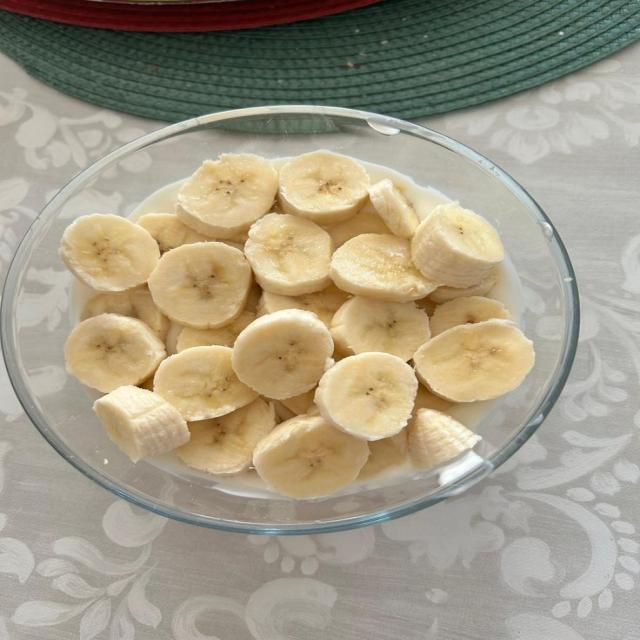banana slice: (414, 320, 534, 402), (254, 415, 368, 498), (315, 353, 418, 440), (233, 310, 333, 399), (148, 243, 251, 328), (176, 154, 278, 238), (65, 314, 166, 392), (412, 203, 504, 287), (154, 346, 258, 420), (60, 214, 159, 291), (176, 398, 275, 474), (245, 214, 333, 295), (94, 386, 189, 461), (330, 235, 436, 302), (280, 151, 370, 224), (331, 297, 430, 361), (81, 286, 169, 341), (408, 409, 480, 469), (258, 285, 348, 326), (430, 297, 511, 336), (177, 312, 255, 352), (369, 179, 419, 239), (138, 214, 213, 253), (428, 266, 500, 304), (359, 430, 409, 479), (325, 211, 391, 247), (413, 385, 452, 418), (281, 388, 315, 414), (265, 398, 295, 423), (244, 280, 263, 314), (166, 321, 184, 355), (415, 297, 437, 317), (137, 376, 153, 390), (307, 403, 320, 416)
